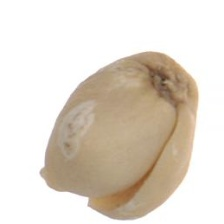L1: (37, 164, 129, 219), (146, 62, 190, 111)
L2: (38, 50, 199, 220)
